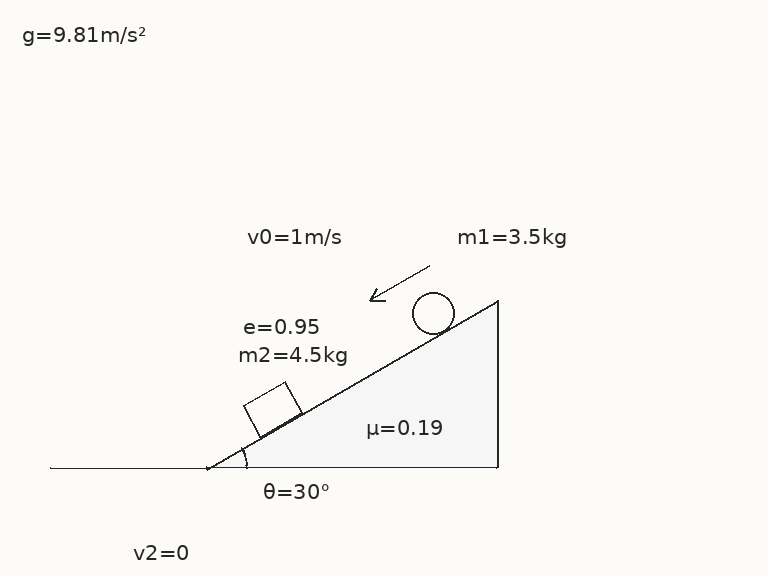ball: (410, 290, 456, 336)
block: (240, 380, 305, 439)
ramp: (205, 298, 500, 470)
